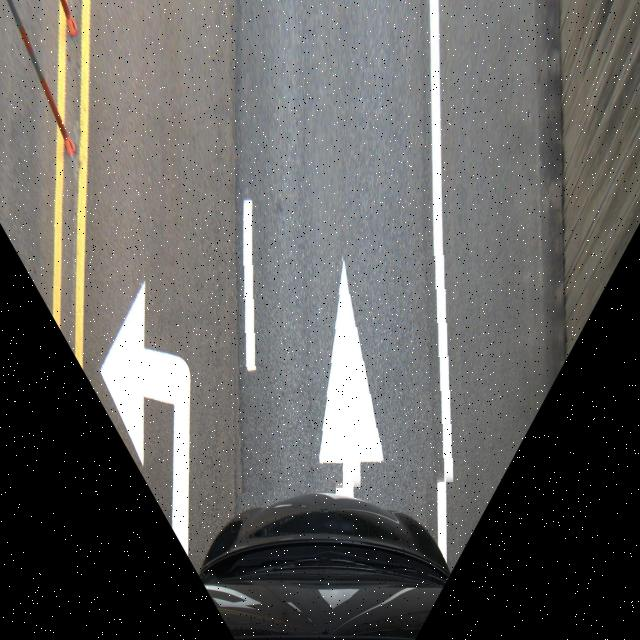forward: (229, 249, 468, 493)
